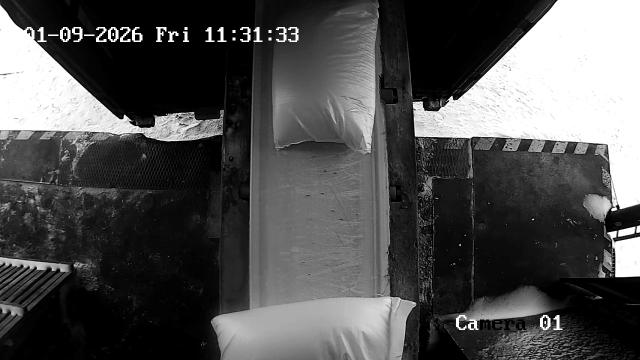bag: (273, 0, 379, 154), (212, 296, 416, 360)
